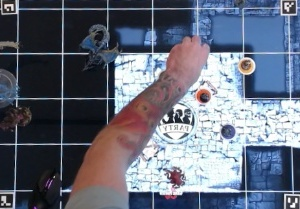orange: (196, 86, 214, 104)
violet: (219, 122, 237, 142)
yellow: (237, 54, 258, 77)
